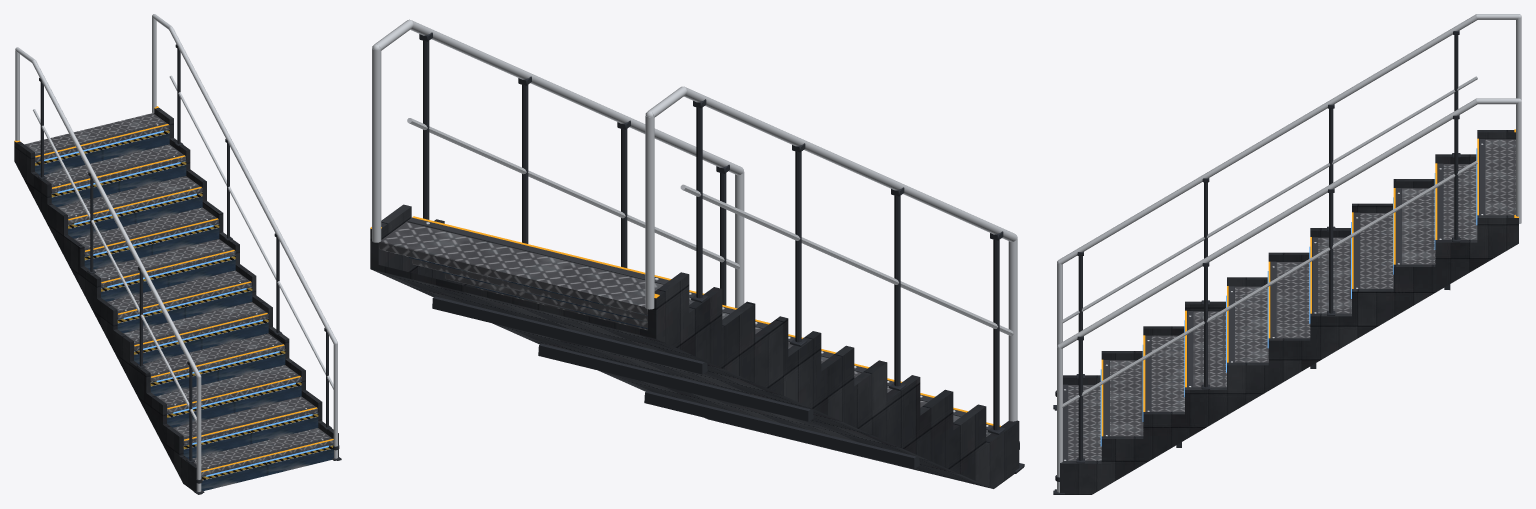
File: arch_stair_flight.glb
3 renders of one model, left to right at view 1: azimuth 30°, elevation 25°; view 2: azimuth 150°, elevation 25°; view 3: azimuth 270°, elevation 25°, orthographic. The views are drawn at different scales.
Parts seen in each view (by area): view 1: arch_stair_flight; view 2: arch_stair_flight; view 3: arch_stair_flight.
Part boxes in pixels (left/top/right/bottom): arch_stair_flight: left=14, top=14, right=341, bottom=494; arch_stair_flight: left=370, top=19, right=1024, bottom=488; arch_stair_flight: left=1053, top=14, right=1521, bottom=494.
Size of the model in its own units: 1.41 by 2.92 by 3.14.
Materials: 9 (3 with a texture image).
